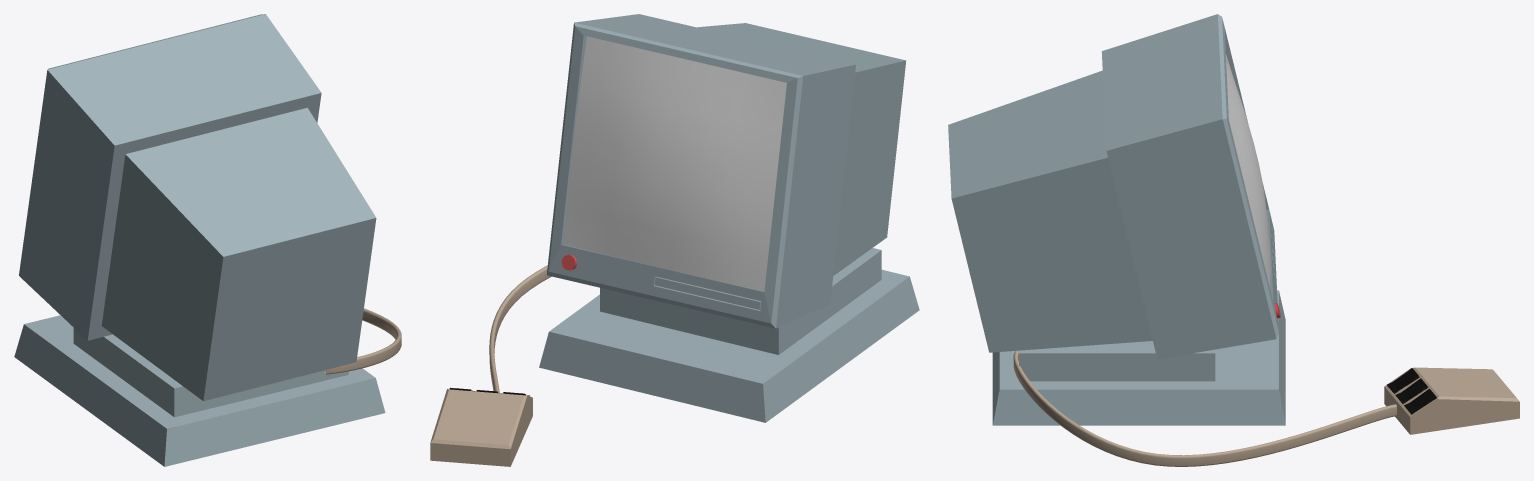
File: monitor+mouse.glb
The picture shows the model from 3 angles, left to right: view 1: azimuth 30°, elevation 25°; view 2: azimuth 150°, elevation 25°; view 3: azimuth 270°, elevation 25°; orthographic projection. The views are drawn at different scales.
Parts seen in each view (by area): view 1: monitor, mouse; view 2: monitor, screen, mouse; view 3: monitor, mouse, screen.
Part boxes in pixels (box(x1,y1,x2,y2)): monitor: box(14, 14, 385, 466); mouse: box(324, 308, 401, 374); monitor: box(539, 14, 919, 422); screen: box(564, 36, 786, 291); mouse: box(430, 265, 551, 466); monitor: box(948, 14, 1285, 425); mouse: box(1013, 351, 1519, 466); screen: box(1226, 54, 1270, 285).
Bounding box in the file's own units: 2.81 × 2.74 × 4.59.
Materials: 4 (2 with a texture image).
